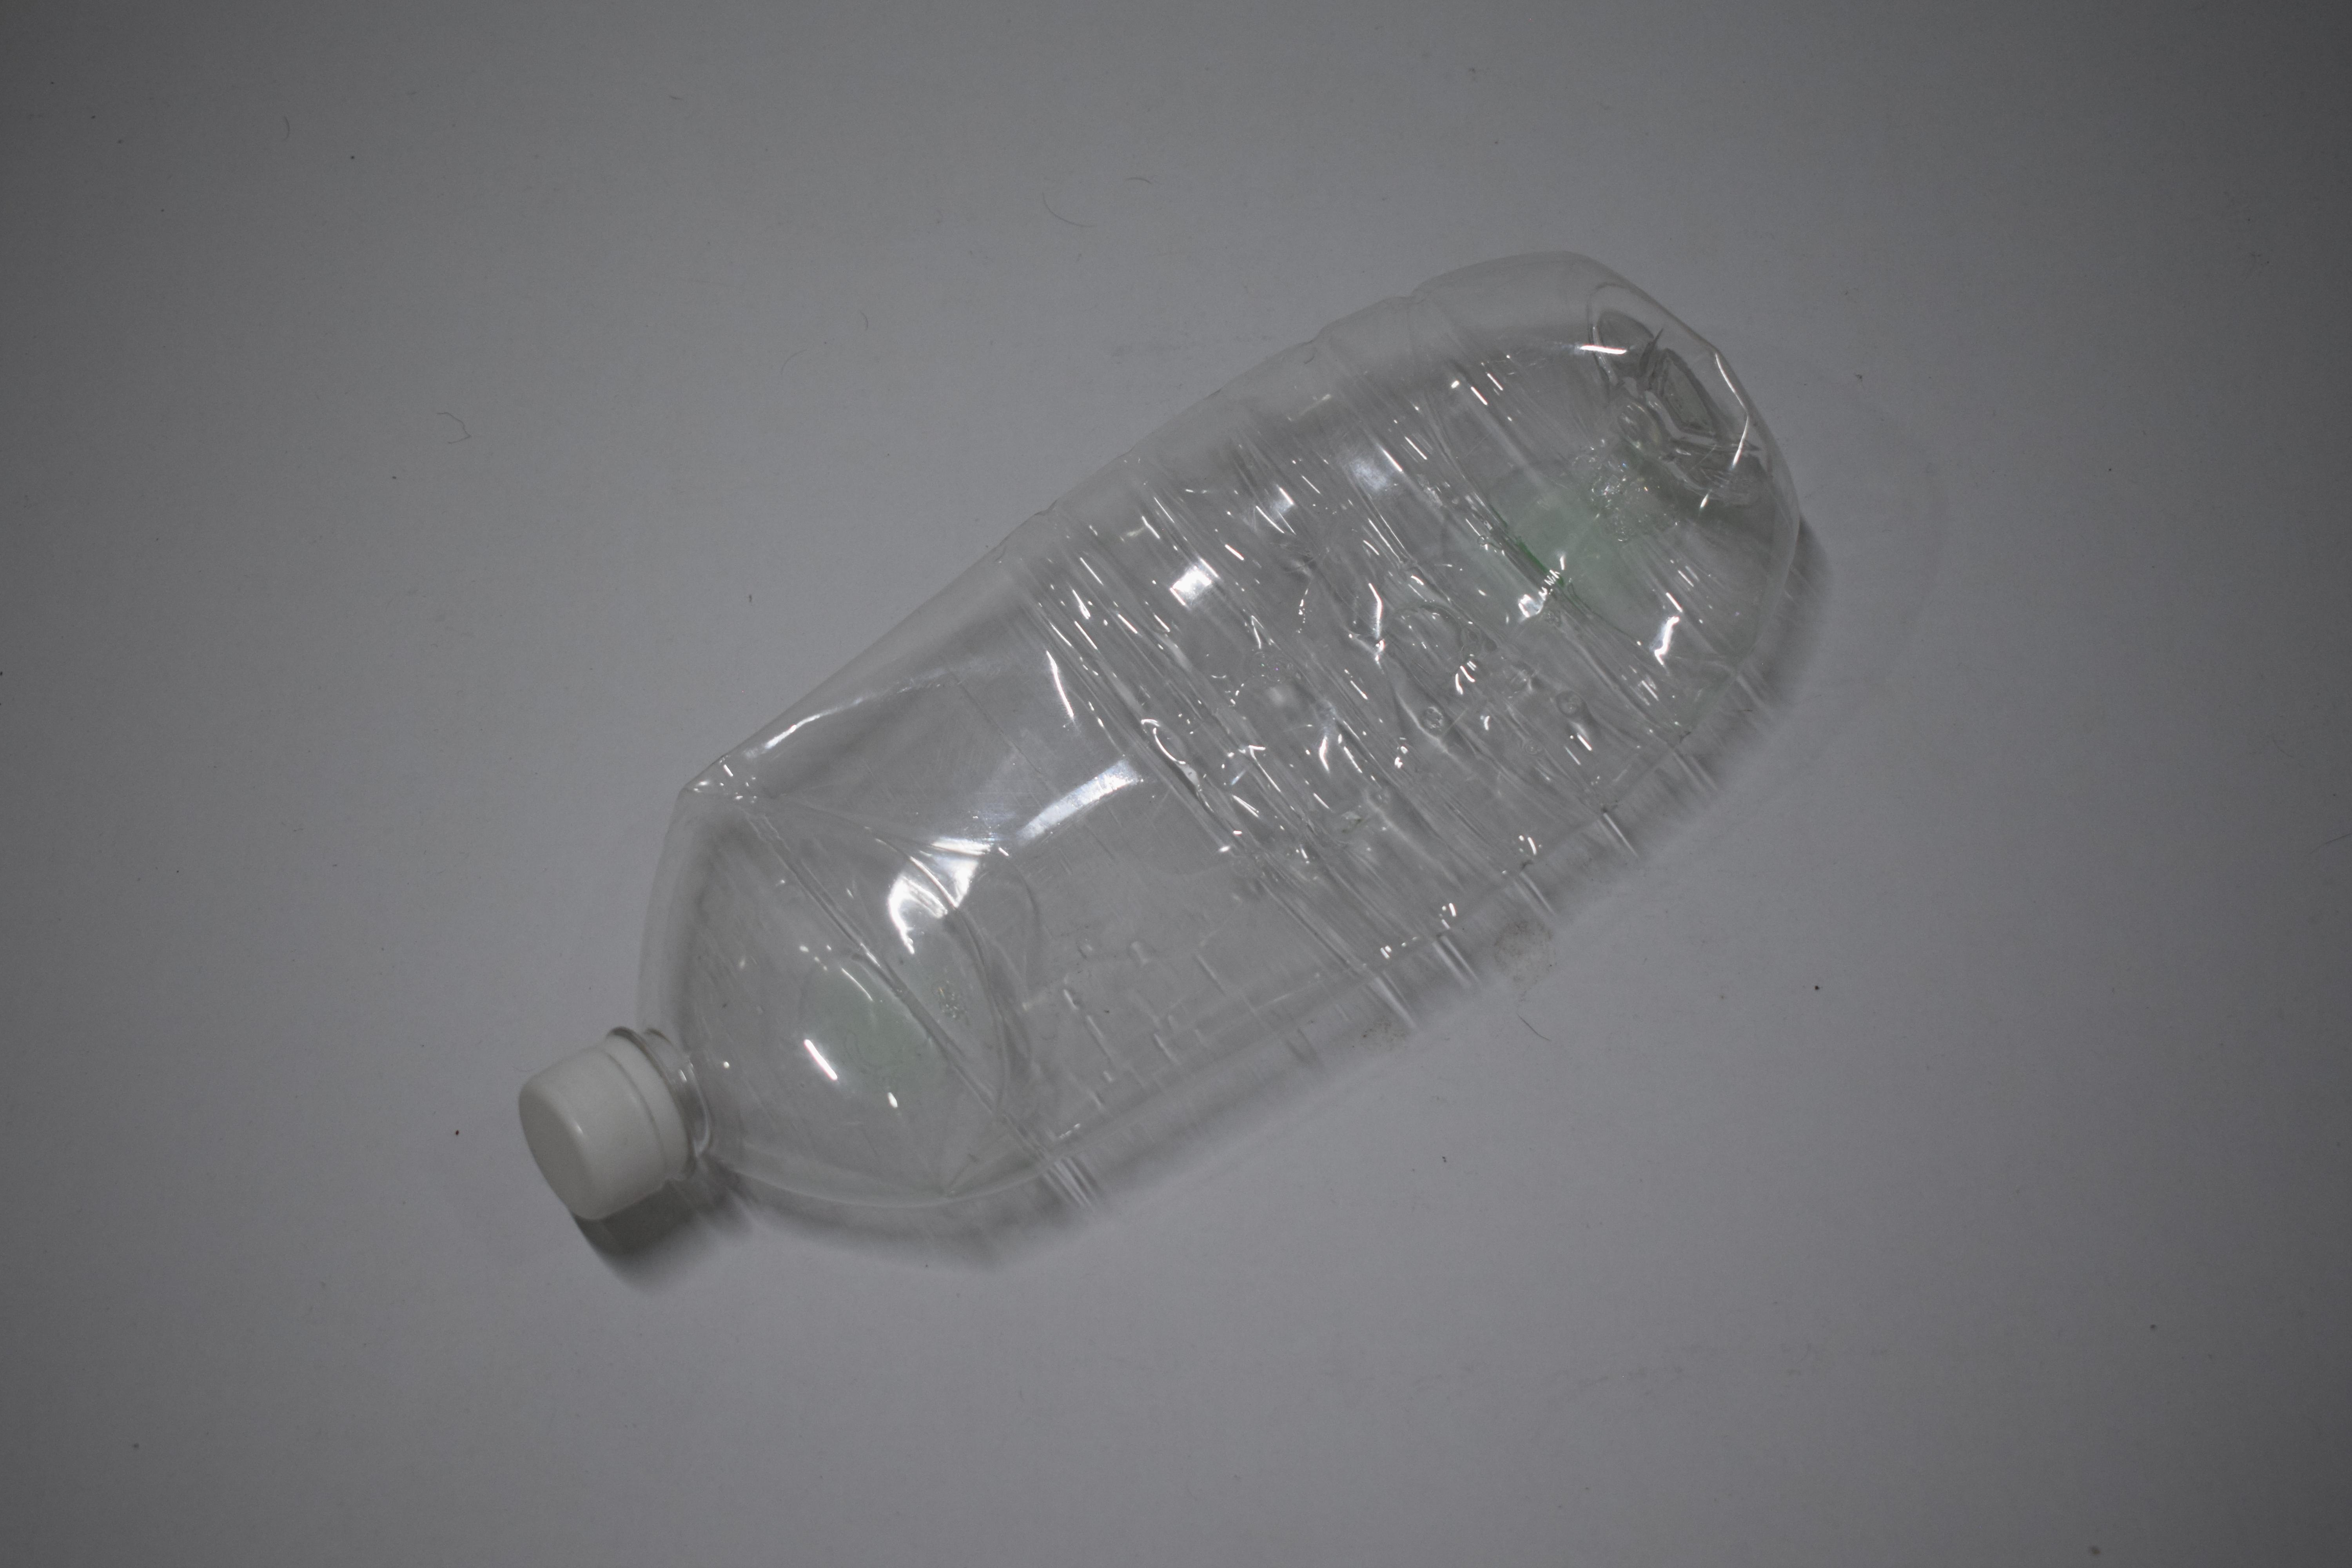bottle: (1153, 278, 1157, 1218)
